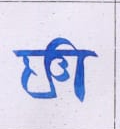i_matra: (56, 37, 90, 101)
